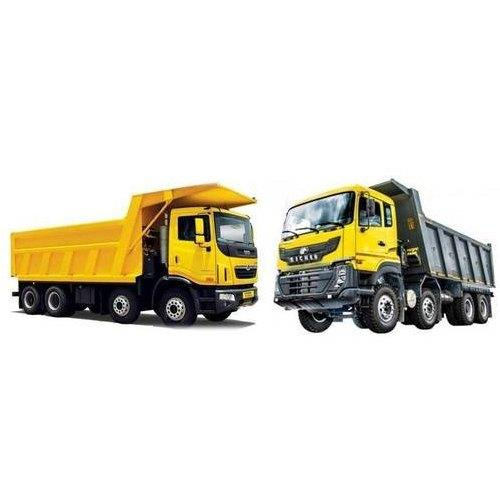truck: (10, 182, 257, 326), (274, 178, 495, 333)
